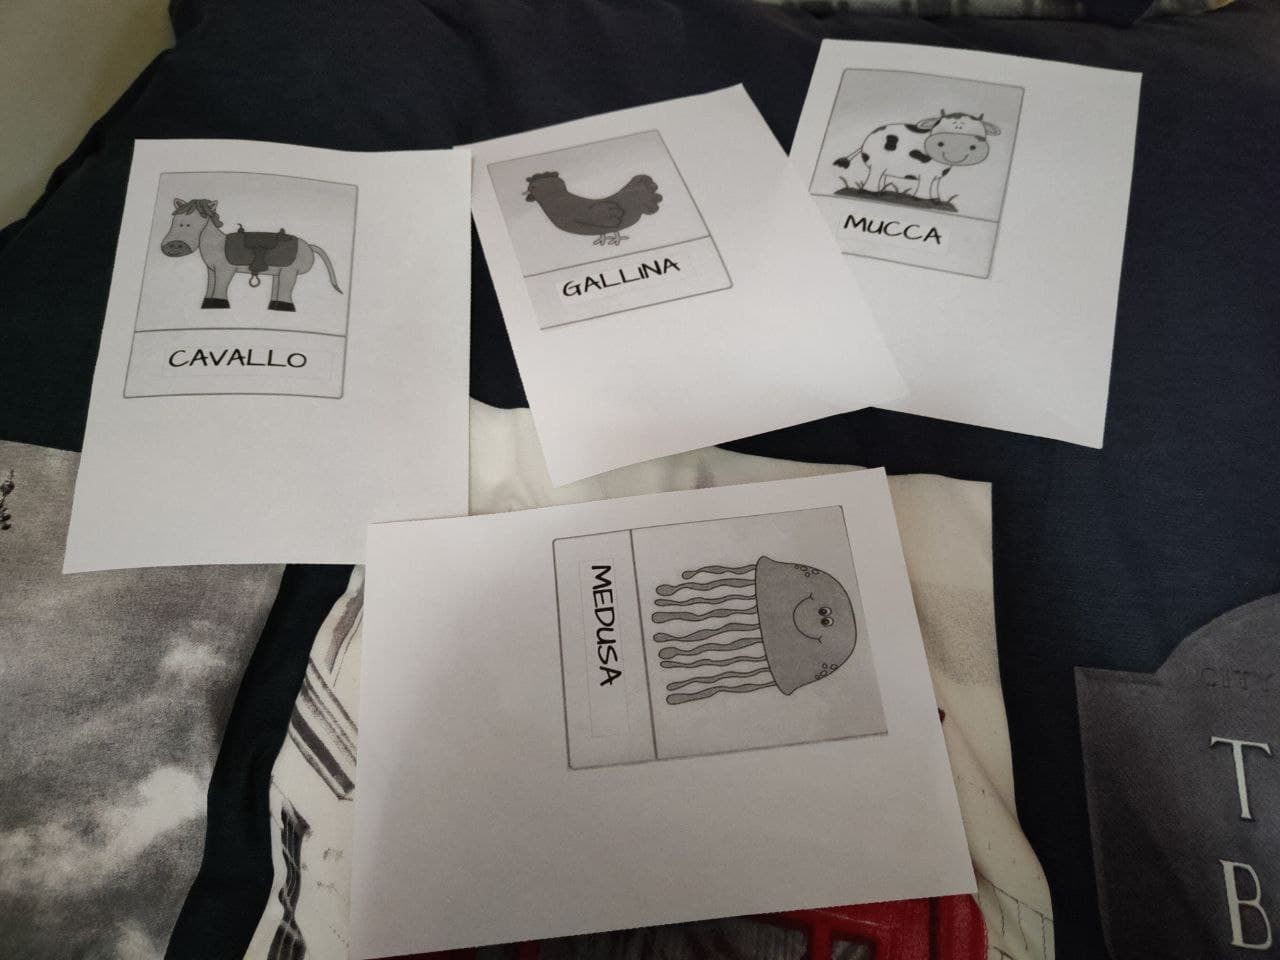cavallo: (159, 188, 354, 399)
gallina: (504, 147, 721, 314)
medusa: (555, 528, 898, 736)
mucca: (825, 77, 1001, 285)
